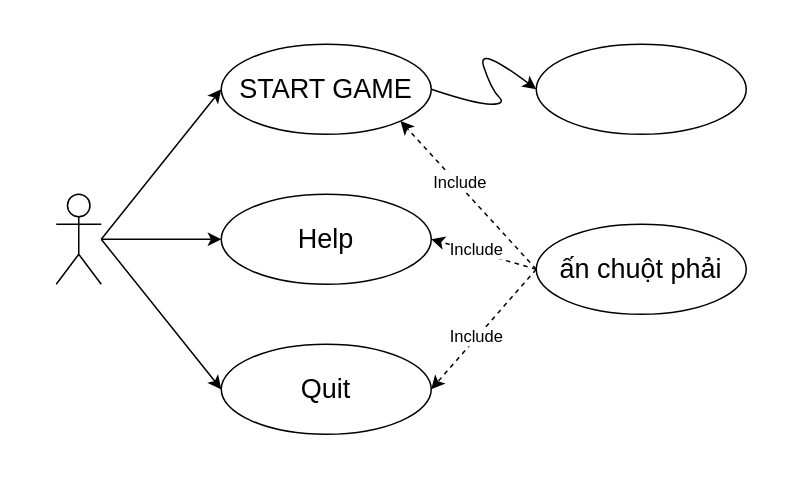
Some shapes in this 786 by 479 pixel diagram are drawn without their labels. Here are the shapes that lost their labels. From the top down, the box of each, then its label:
(535, 43, 746, 134): vòng lặp thắng thua hoà
(55, 193, 101, 284): PLAYER
